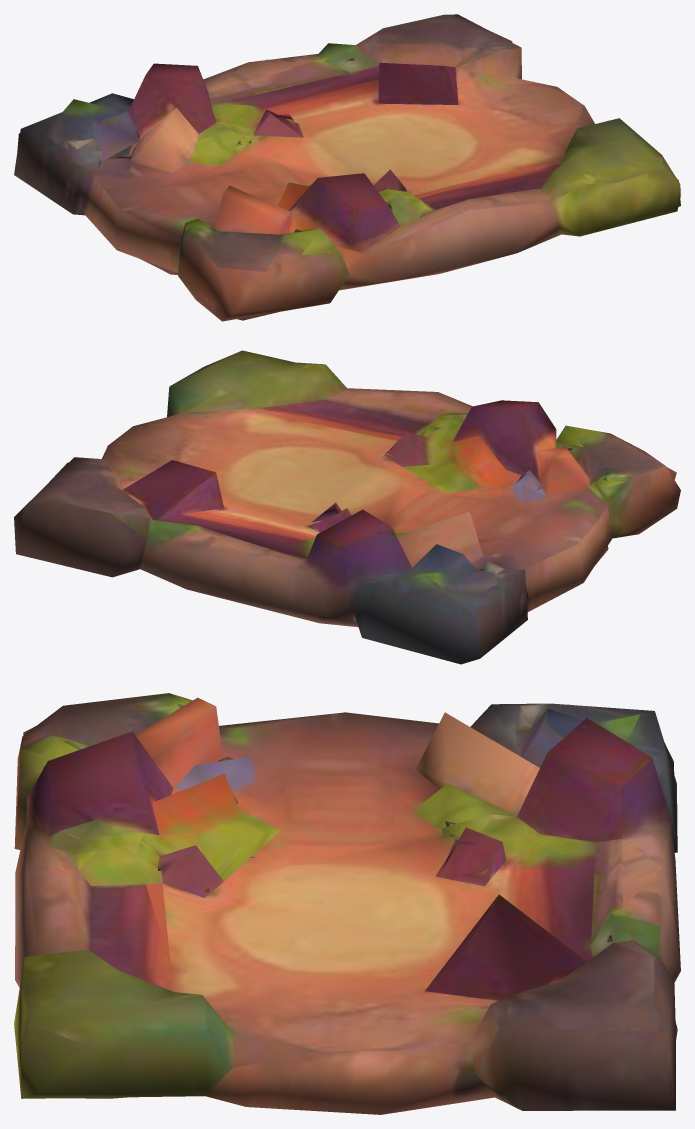
Rendered from x-floor-stone-tile.glb.
3 renders of one model, top to bottom at view 1: azimuth 30°, elevation 25°; view 2: azimuth 150°, elevation 25°; view 3: azimuth 270°, elevation 25°, orthographic. The views are drawn at different scales.
Visible parts, largest first — view 1: geometry_0; view 2: geometry_0; view 3: geometry_0.
Part boxes in pixels (x1=…): geometry_0: x1=14, y1=14, x2=680, y2=321; geometry_0: x1=14, y1=350, x2=680, y2=664; geometry_0: x1=14, y1=693, x2=680, y2=1114.
Size of the model in its own units: 1 by 0.1931 by 0.8222.
Materials: 1 (1 with a texture image).
